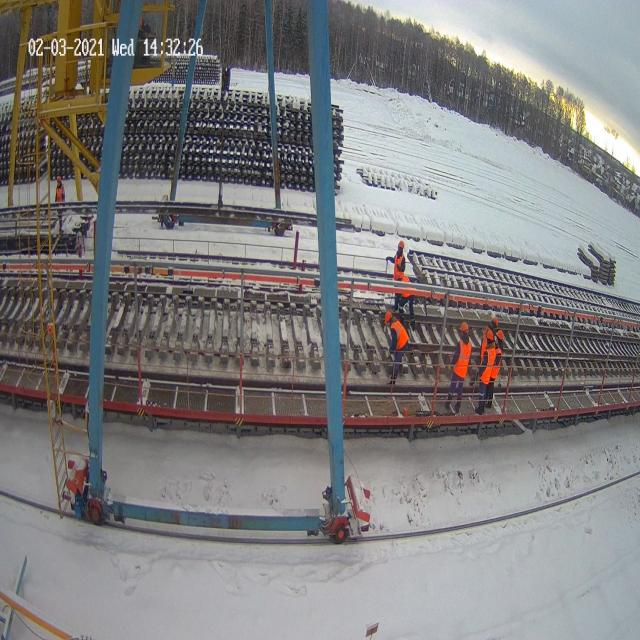Helmet: (384, 311, 392, 324), (461, 322, 468, 332), (496, 330, 503, 340), (492, 317, 498, 328), (398, 240, 404, 248)
Person: (474, 316, 504, 415), (445, 322, 472, 416), (388, 237, 420, 312), (384, 311, 409, 384), (55, 175, 65, 234)
